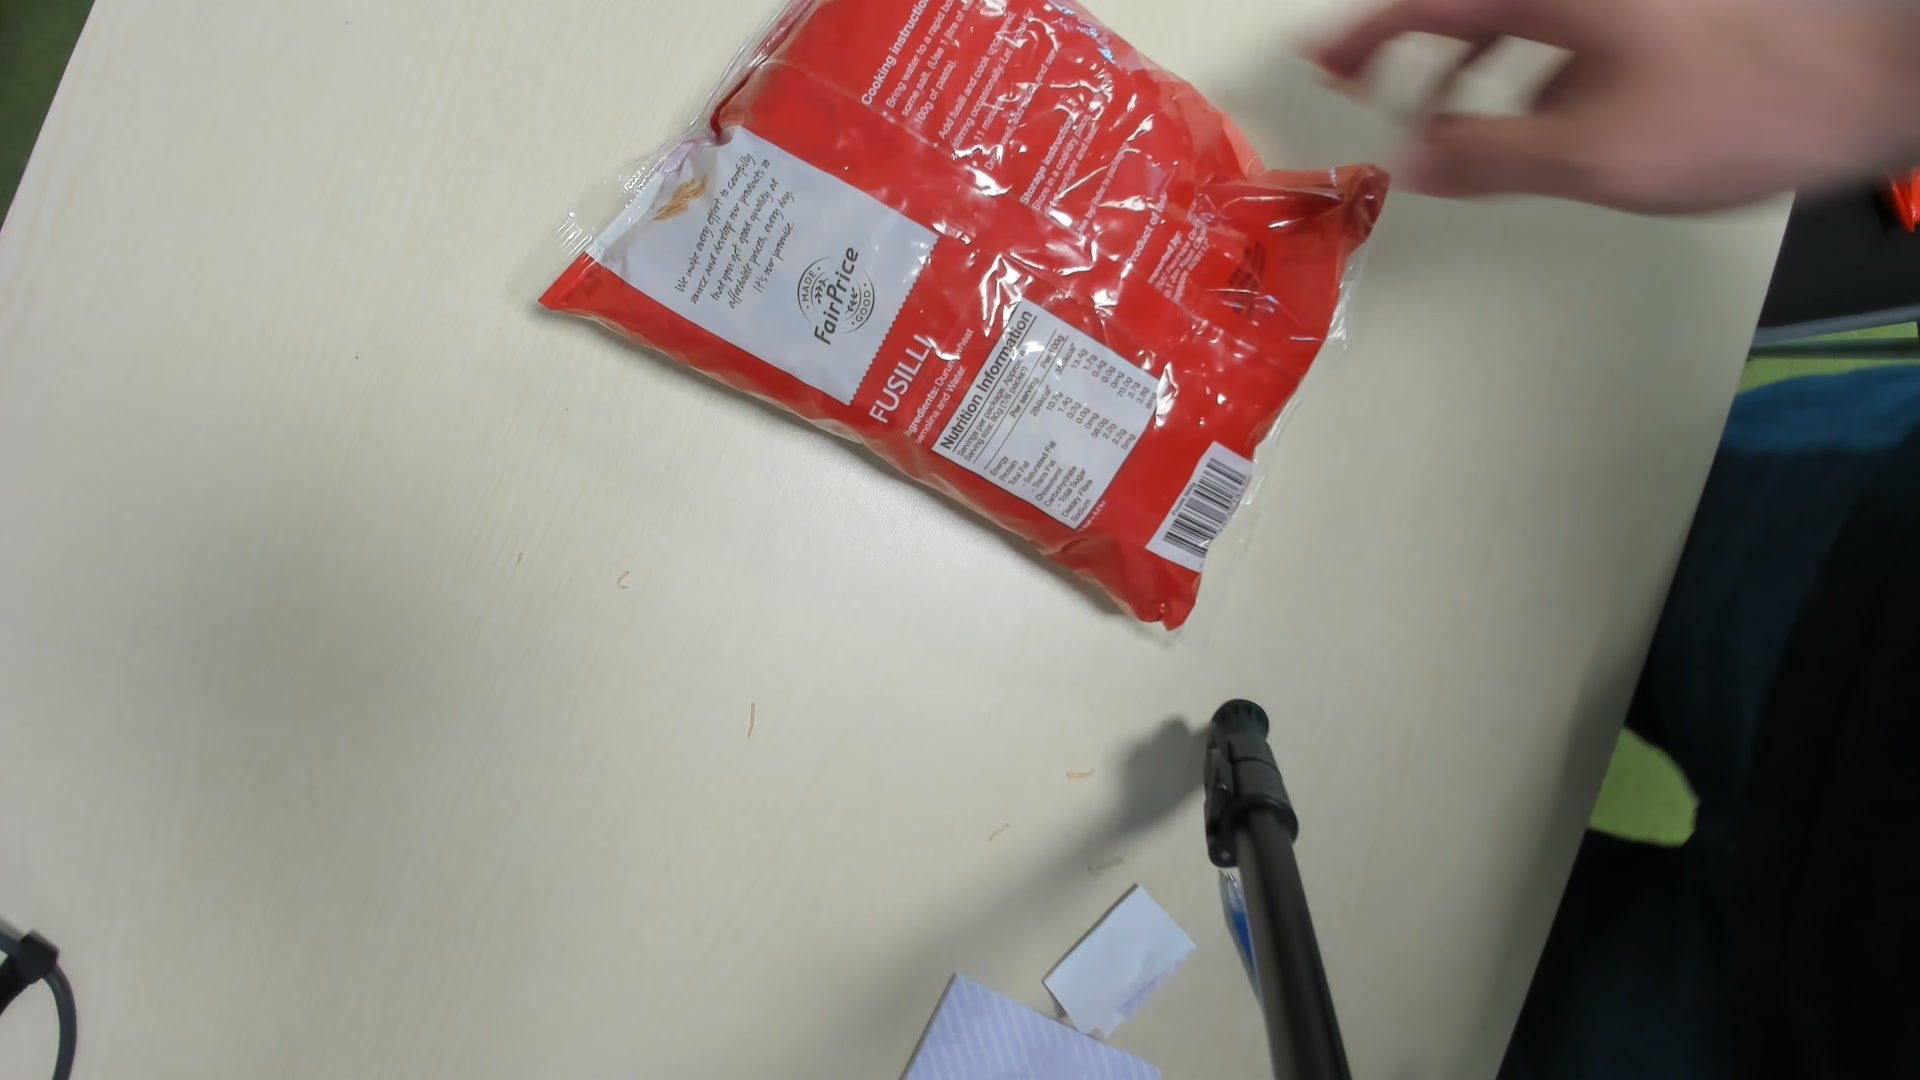Pasta_500-599g_Halal_NonHealthy: (524, 1, 1395, 644)
